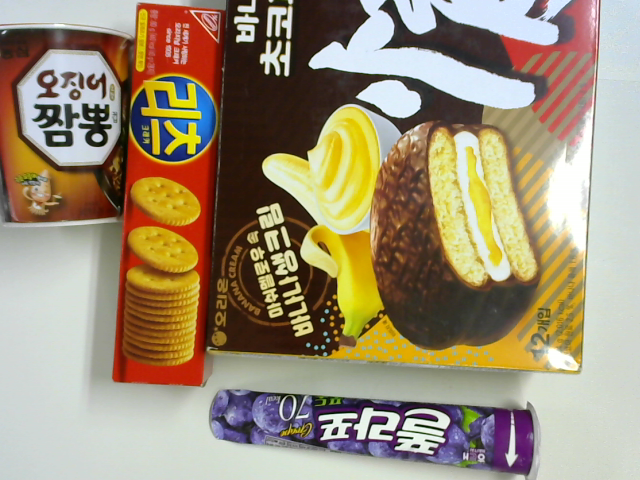Choco_Pie_Banana: (208, 1, 602, 374)
Ojjam: (1, 21, 131, 227)
Polapo_Grape: (208, 387, 544, 478)
Ritz_Cracker: (112, 6, 230, 386)
